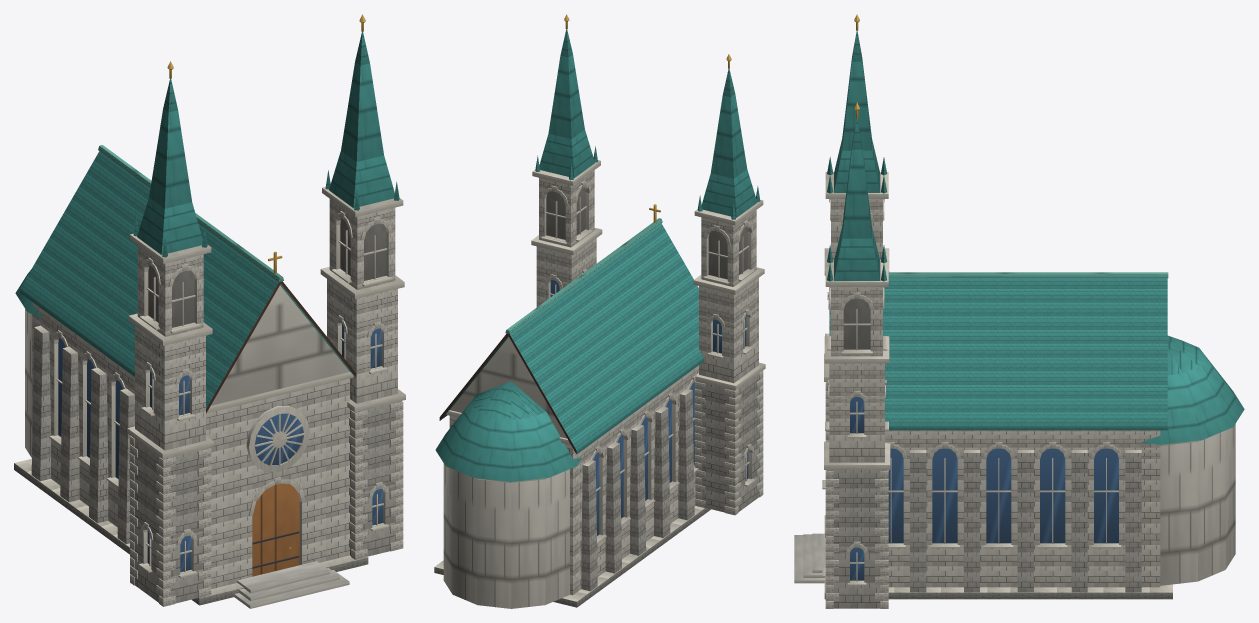
Rendered from civ_cathedral_01.glb.
3 renders of one model, left to right at view 1: azimuth 30°, elevation 25°; view 2: azimuth 150°, elevation 25°; view 3: azimuth 270°, elevation 25°, orthographic. The views are drawn at different scales.
Parts seen in each view (by area): view 1: civ_cathedral_01; view 2: civ_cathedral_01; view 3: civ_cathedral_01.
Part boxes in pixels (bbox=[...]): civ_cathedral_01: bbox=[14, 14, 405, 608]; civ_cathedral_01: bbox=[434, 14, 765, 608]; civ_cathedral_01: bbox=[794, 14, 1244, 608].
Bounding box in the file's own units: 14.86 × 30.9 × 25.1.
Materials: 1 (1 with a texture image).
